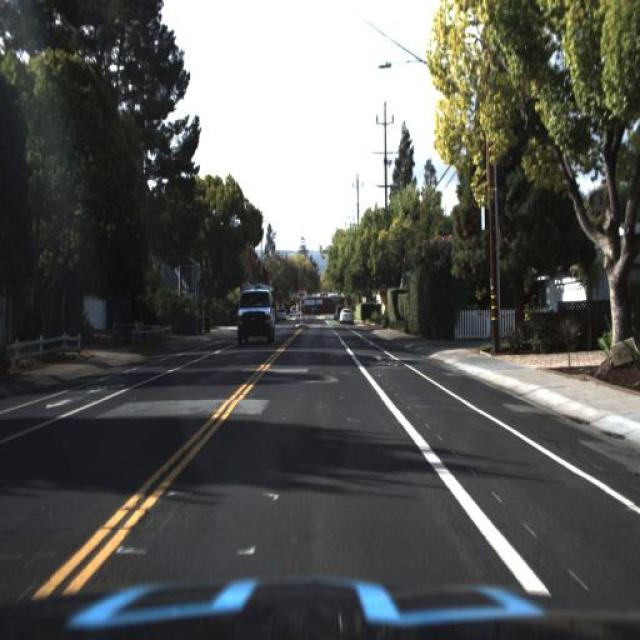car: (225, 278, 276, 348), (338, 302, 356, 326)
